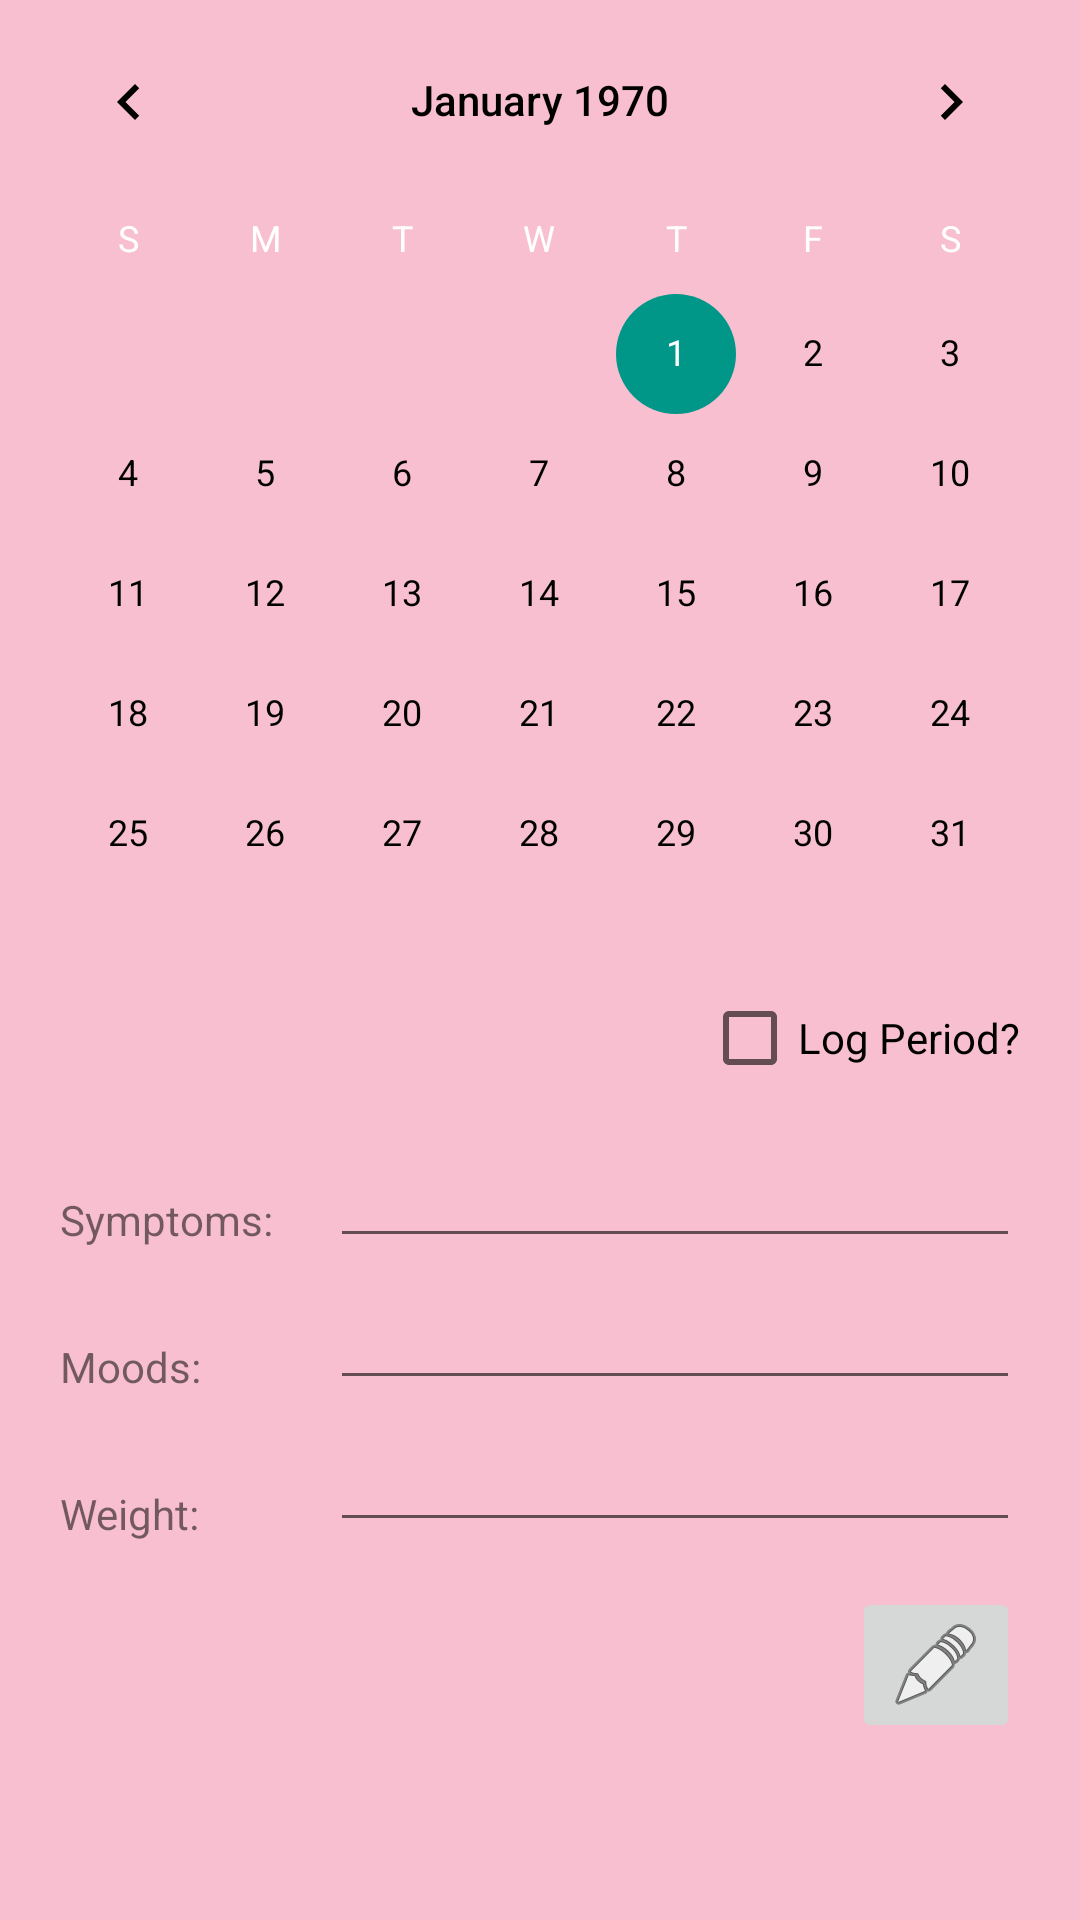

Point at icon controls on the screen. Image size 1080 × 1920, points as (x=x, y=y).
Save and Edit Button: (x=936, y=1665)
